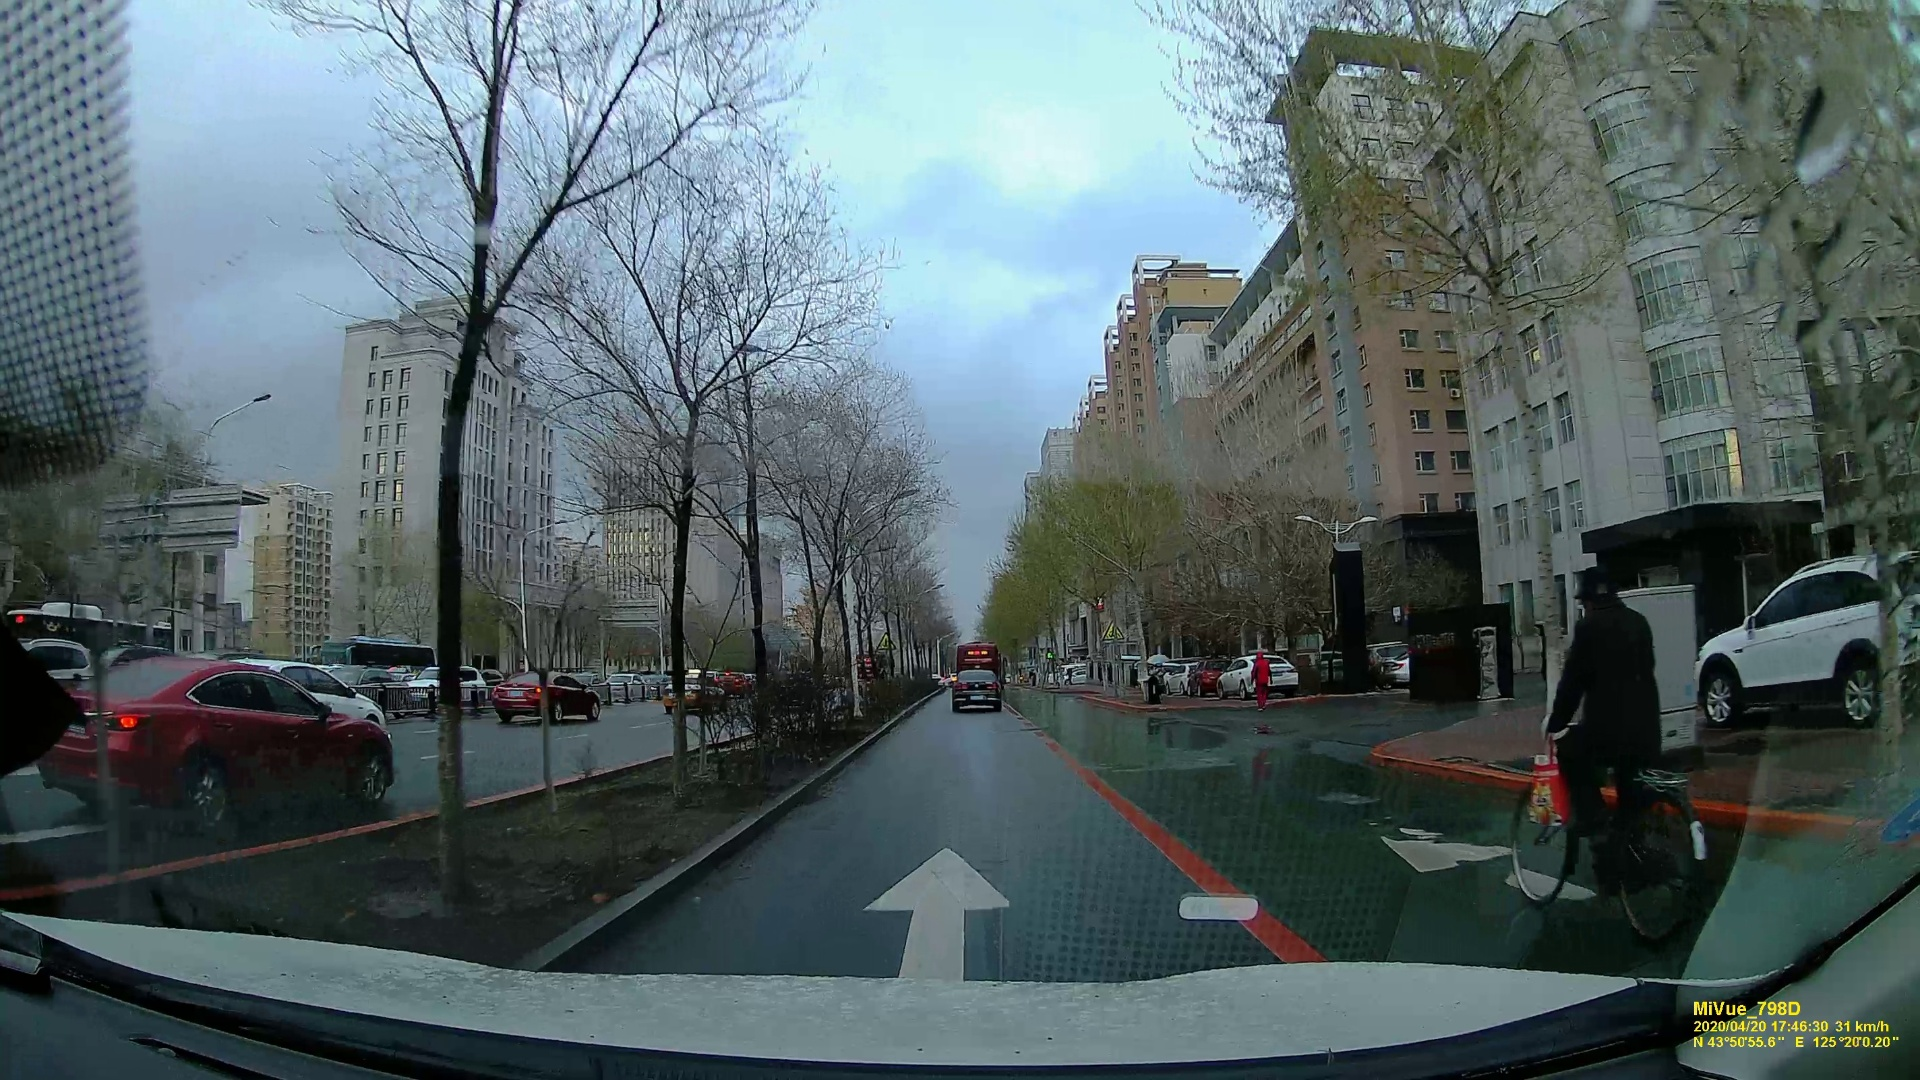bus: (954, 643, 998, 675)
person: (1537, 560, 1673, 928), (1245, 644, 1273, 712)
traffic_sign: (1101, 620, 1123, 642)
vehicle: (65, 660, 399, 827), (1694, 556, 1920, 731), (486, 668, 599, 726), (951, 670, 1002, 711)
